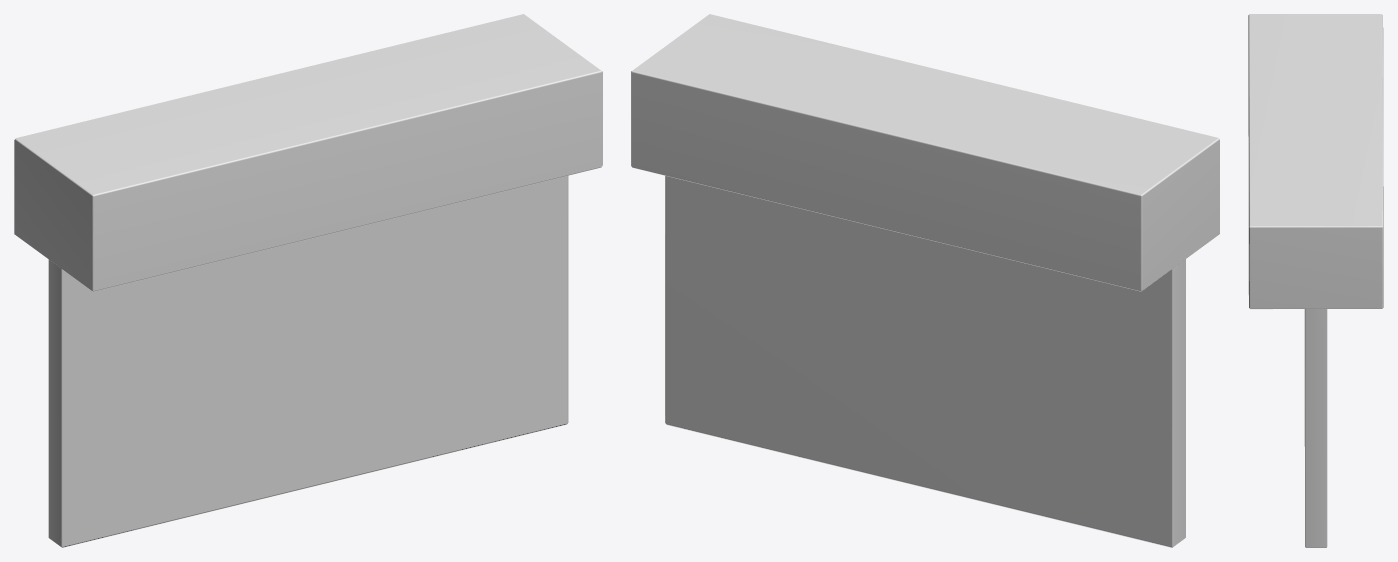
The model's file is DoorSide1.fbx.
3 renders of one model, left to right at view 1: azimuth 30°, elevation 25°; view 2: azimuth 150°, elevation 25°; view 3: azimuth 270°, elevation 25°, orthographic. The views are drawn at different scales.
Parts seen in each view (by area): view 1: Door_side.001; view 2: Door_side.001; view 3: Door_side.001.
Boxes of the visible parts, x1,y1,x2,y2 form: Door_side.001: (14,14,602,547); Door_side.001: (631,14,1219,547); Door_side.001: (1248,14,1383,547).
Size of the model in its own units: 47.84 by 33.75 by 12.81.
Materials: 2 (1 with a texture image).
